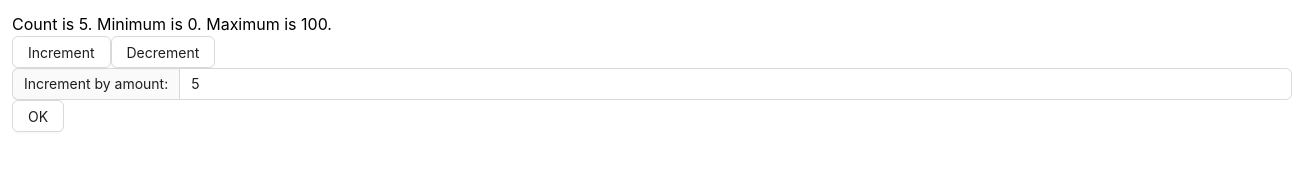
<Counter /> › should decrease value by 1 after clicking on decrement button
Expected: the heading with test id "counter-count" shows "Count is 5", [12,14,332,34]
Click the button with test id "counter-decrement". click: (163, 52)
box: [110,36,215,68]
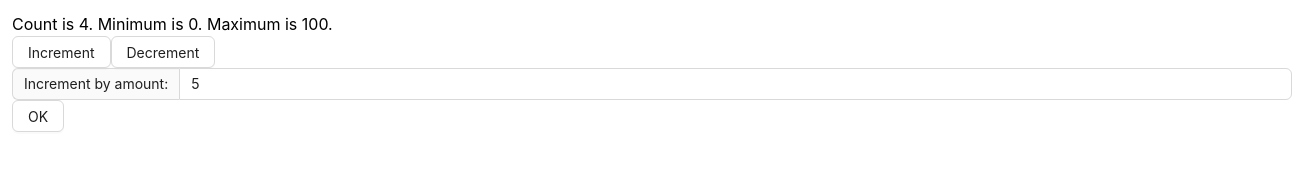
Expected: the heading with test id "counter-count" shows "Count is 4", [12,14,333,34]
